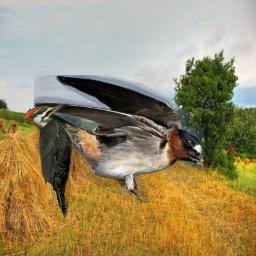Swallow: (34, 75, 204, 203)
Woodpecker: (22, 103, 88, 219)
